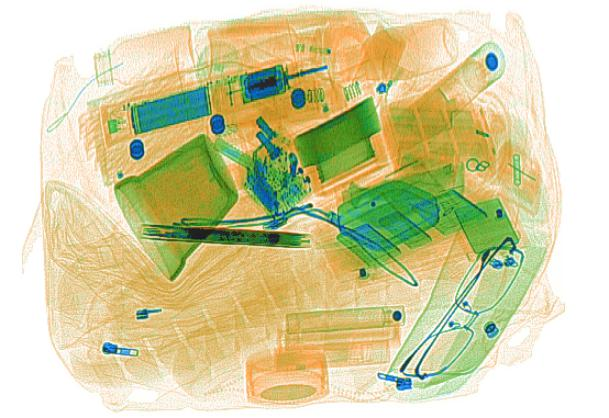battery: (129, 84, 214, 136)
plasticBottleWithaNozzle: (220, 58, 389, 138), (203, 19, 345, 85)
